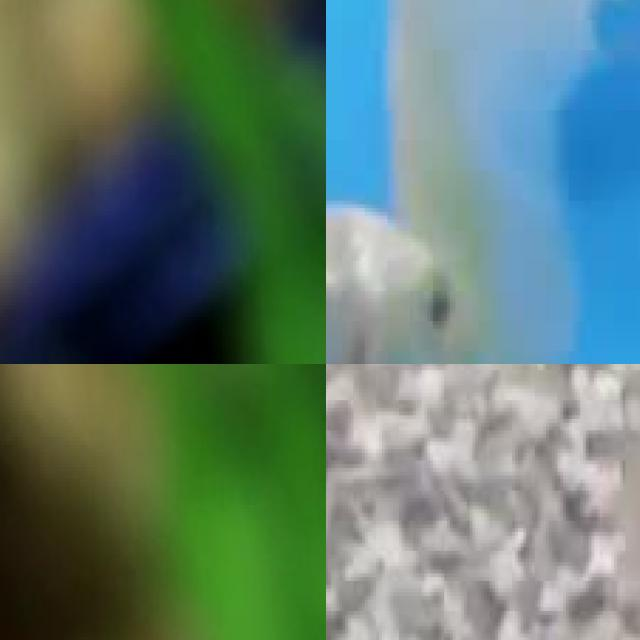fish: (0, 0, 326, 364), (326, 99, 506, 364)
